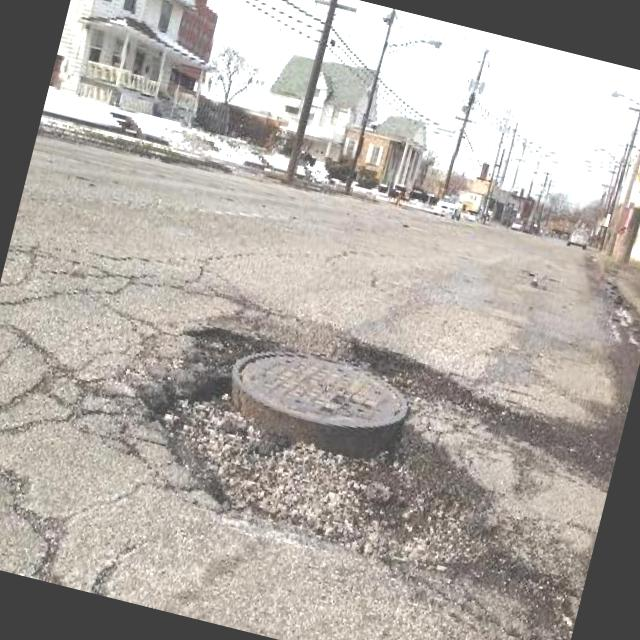pothole: (116, 310, 532, 594), (336, 332, 468, 411)
